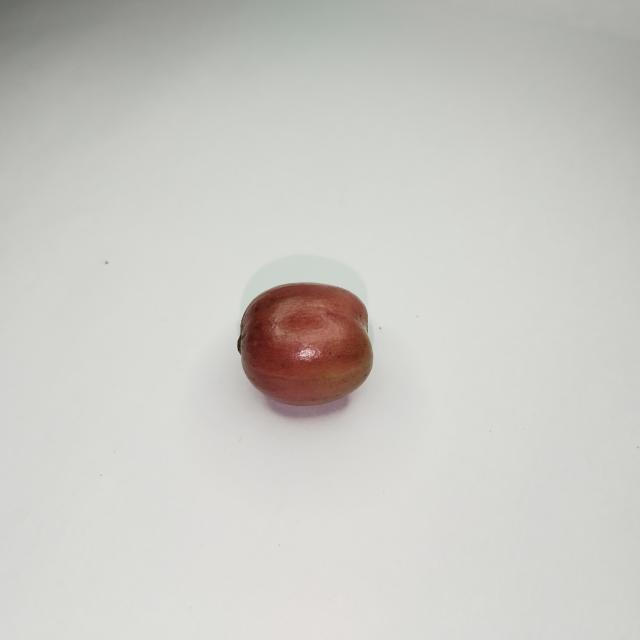Sano: (231, 272, 383, 415), (237, 283, 372, 406)
